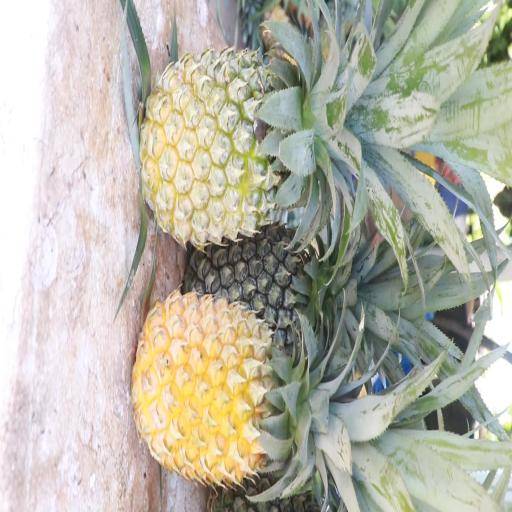------------------------------: (143, 58, 336, 240)
Pineapple - v8 v1: (140, 297, 330, 476)
